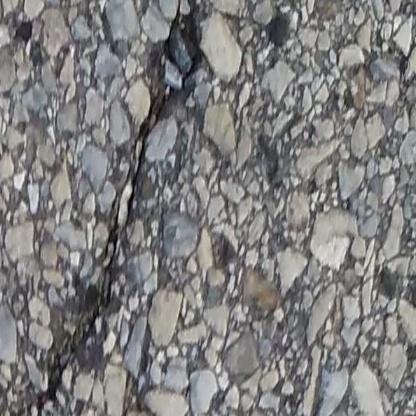Cracks: (22, 0, 234, 416)
